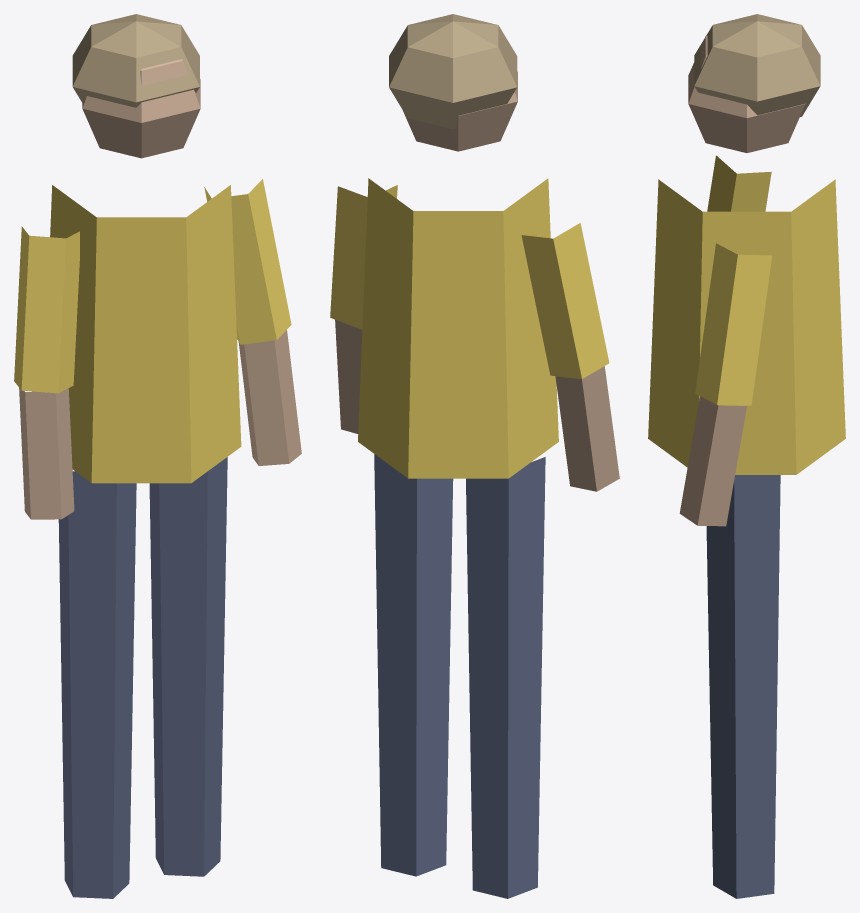
File: person_stand_b.glb
The picture shows the model from 3 angles, left to right: view 1: azimuth 30°, elevation 25°; view 2: azimuth 150°, elevation 25°; view 3: azimuth 270°, elevation 25°; orthographic projection.
Parts seen in each view (by area): view 1: person_stand_b; view 2: person_stand_b; view 3: person_stand_b.
Boxes of the visible parts, x1=… form: person_stand_b: x1=14, y1=14, x2=301, y2=898; person_stand_b: x1=330, y1=14, x2=619, y2=898; person_stand_b: x1=648, y1=14, x2=845, y2=898.
Bounding box in the file's own units: 0.595 × 1.78 × 0.38.
